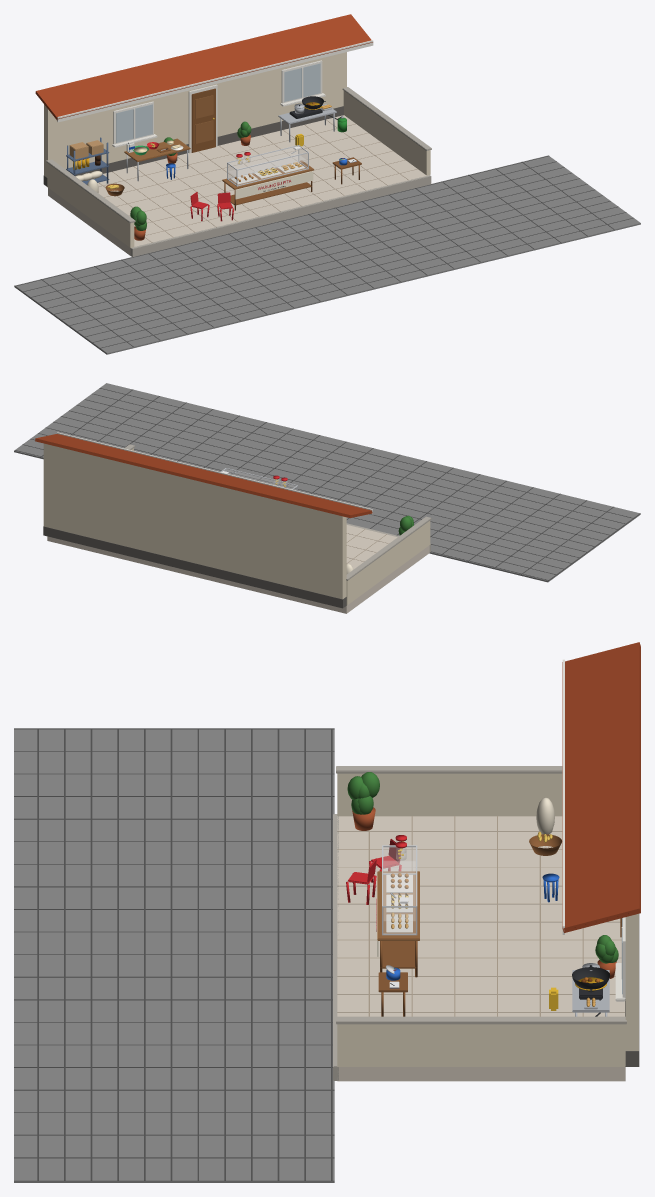
The model's file is denah-warung.glb.
3 views of the same model, one above another, from view 1: azimuth 30°, elevation 25°; view 2: azimuth 150°, elevation 25°; view 3: azimuth 270°, elevation 25° (orthographic). The views are drawn at different scales.
Visible parts, largest first — view 1: Jalan_paving, Lantai_teras, Atap_genteng, Dinding_depan, Bibir_teras, Pagar_kiri, Pagar_kanan, Fascia, Kaca_etalase, Plint, Bingkai.001, Bingkai (+22 smaller); view 2: Jalan_paving, Dinding_depan, Atap_genteng, Lantai_teras, Plint, Pagar_kiri, Fascia, Nat_paving_z.010, Nat_paving_z.011, Nat_paving_z.006, Nat_paving_z.007, Nat_paving_z.008 (+4 smaller); view 3: Jalan_paving, Lantai_teras, Atap_genteng, Pagar_kanan, Pagar_kiri, Kaca_etalase, Pagar_kanan_tutup, Dinding_depan, Pagar_kiri_tutup, Kaca_atas, Meja_etalase_papan, Bibir_teras (+14 smaller).
Boxes of the visible parts, x1,y1,x2,y2 form: Jalan_paving: (14,155,640,354); Lantai_teras: (48,115,428,255); Atap_genteng: (35,14,372,120); Dinding_depan: (44,52,346,177); Bibir_teras: (130,175,431,256); Pagar_kiri: (47,163,134,247); Pagar_kanan: (343,91,430,175); Fascia: (57,40,373,122); Kaca_etalase: (228,147,307,184); Plint: (43,106,343,186); Bingkai.001: (281,60,322,103); Bingkai: (113,101,153,144); Jalan_paving: (14,383,640,582); Dinding_depan: (43,443,346,599); Atap_genteng: (35,434,372,518); Lantai_teras: (47,525,429,613); Plint: (43,526,346,608); Pagar_kiri: (346,521,430,605); Fascia: (57,432,372,514); Nat_paving_z.010: (92,393,625,523); Nat_paving_z.011: (99,388,633,518); Nat_paving_z.006: (61,416,594,546); Nat_paving_z.007: (69,410,601,540); Nat_paving_z.008: (76,405,609,535); Jalan_paving: (14,729,334,1182); Lantai_teras: (337,816,625,1081); Atap_genteng: (562,642,640,932); Pagar_kanan: (337,1024,625,1066); Pagar_kiri: (337,773,562,816); Kaca_etalase: (383,847,415,933); Pagar_kanan_tutup: (336,1016,626,1024); Dinding_depan: (625,913,638,1050); Pagar_kiri_tutup: (336,766,562,773); Kaca_atas: (384,861,415,920); Meja_etalase_papan: (377,871,419,940); Bibir_teras: (333,814,338,1080).
Size of the model in its own units: 20.01 by 3.76 by 11.73.
